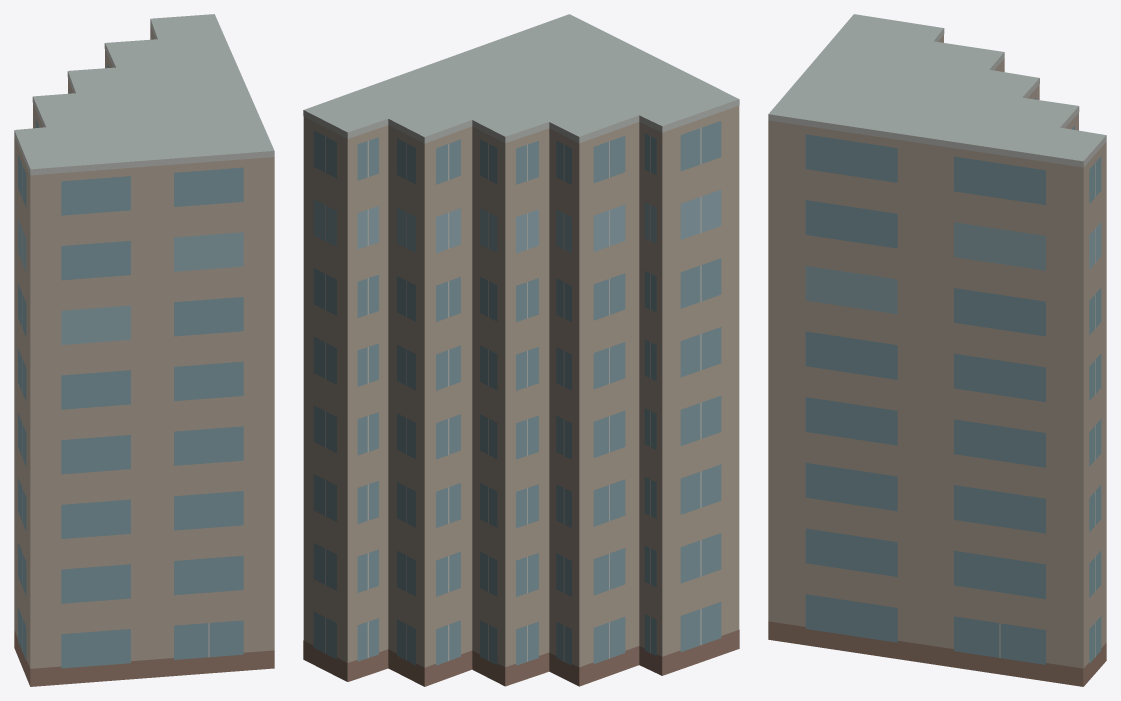
File: survey-upis-32676393.glb
3 renders of one model, left to right at view 1: azimuth 30°, elevation 25°; view 2: azimuth 150°, elevation 25°; view 3: azimuth 270°, elevation 25°, orthographic. The views are drawn at different scales.
Visible parts, largest first — view 1: survey-upis-32676393.tmp; view 2: survey-upis-32676393.tmp; view 3: survey-upis-32676393.tmp.
Boxes of the visible parts, x1=… form: survey-upis-32676393.tmp: x1=14, y1=14, x2=274, y2=686; survey-upis-32676393.tmp: x1=303, y1=14, x2=739, y2=686; survey-upis-32676393.tmp: x1=768, y1=14, x2=1106, y2=686.
Bounding box in the file's own units: 12.48 × 20.74 × 12.11.
